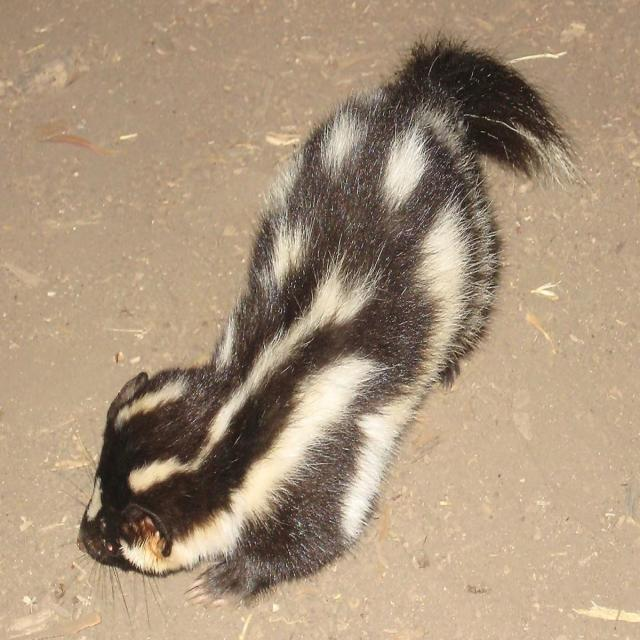Skunk: (70, 2, 572, 621)
